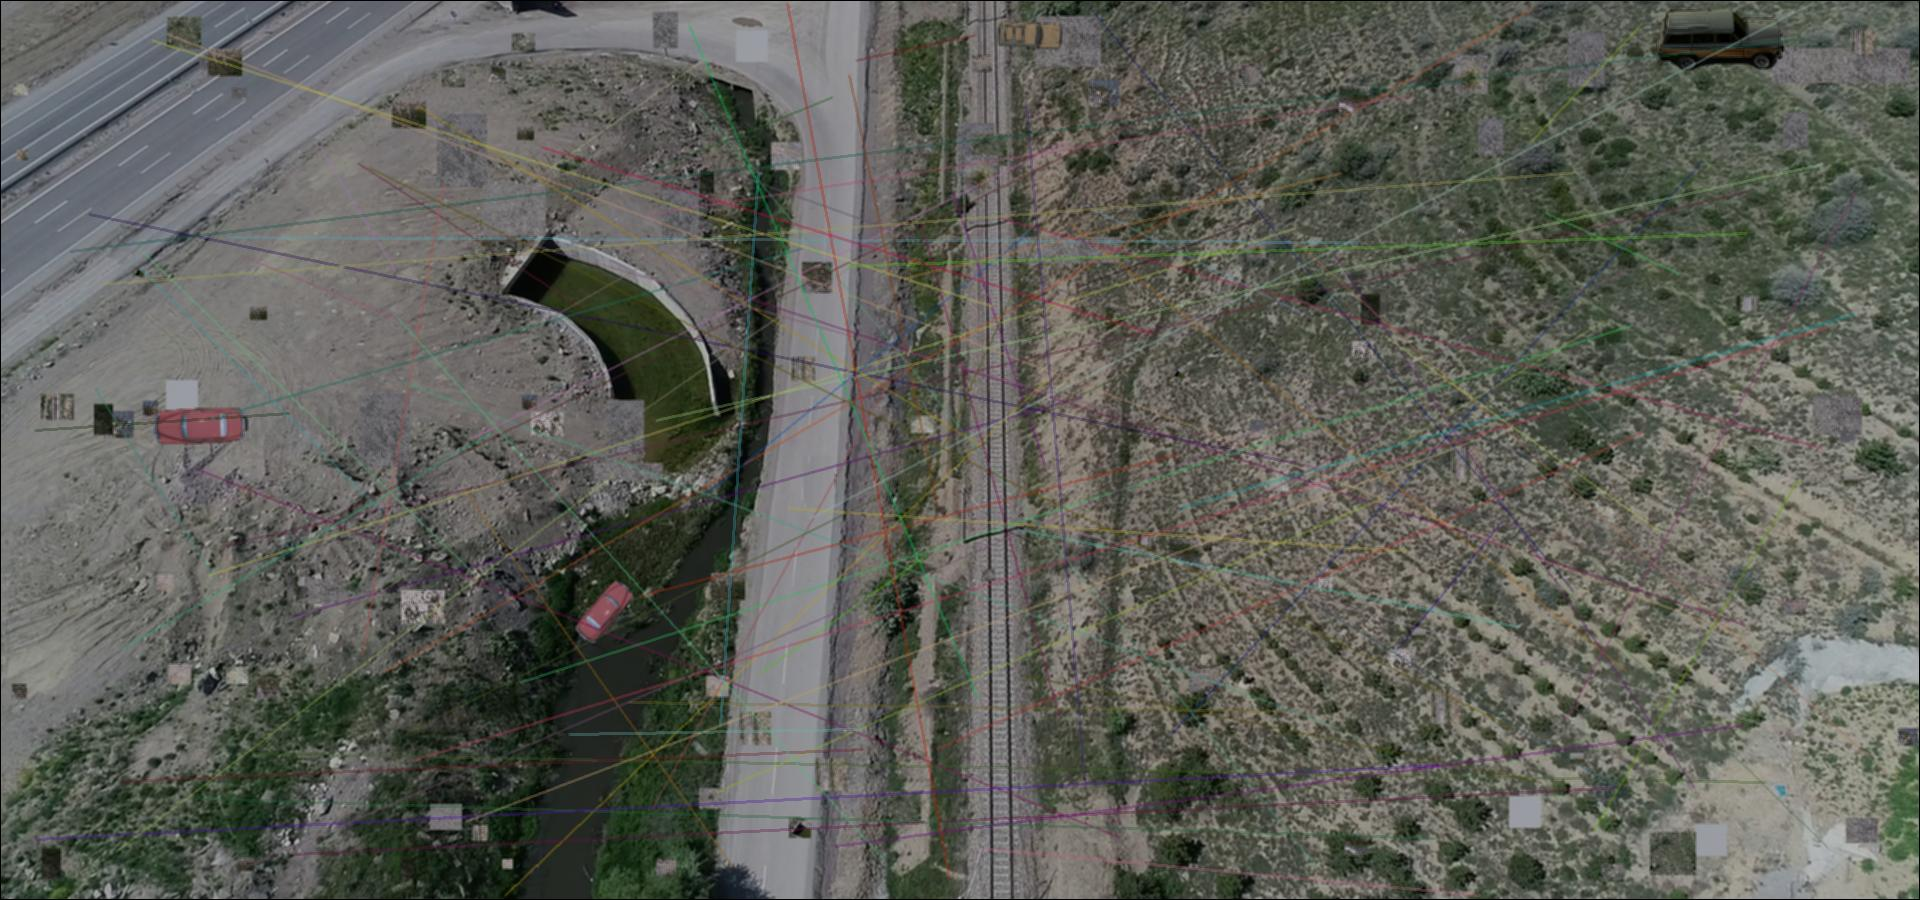arac: (1657, 10, 1784, 70), (576, 580, 634, 644), (154, 408, 252, 444), (997, 20, 1065, 51)
